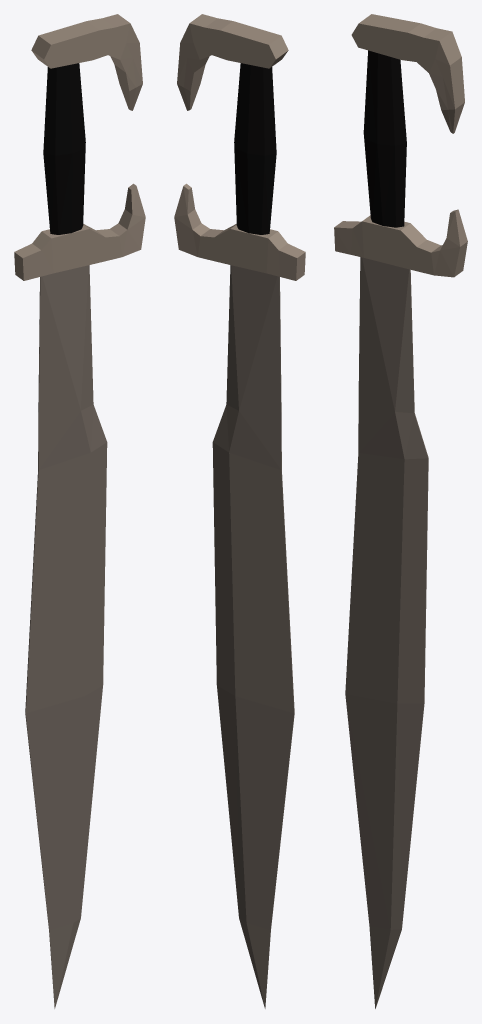
The model's file is Spartan_sword.obj.
3 renders of one model, left to right at view 1: azimuth 30°, elevation 25°; view 2: azimuth 150°, elevation 25°; view 3: azimuth 330°, elevation 25°, orthographic.
Visible parts, largest first — view 1: Spartan_sword_Cube.001; view 2: Spartan_sword_Cube.001; view 3: Spartan_sword_Cube.001.
Boxes of the visible parts, left/top/right/bottom form: Spartan_sword_Cube.001: left=14, top=14, right=145, bottom=1008; Spartan_sword_Cube.001: left=174, top=14, right=305, bottom=1008; Spartan_sword_Cube.001: left=334, top=14, right=467, bottom=1008.
Bounding box in the file's own units: 1.8 × 13.6 × 0.4037.
